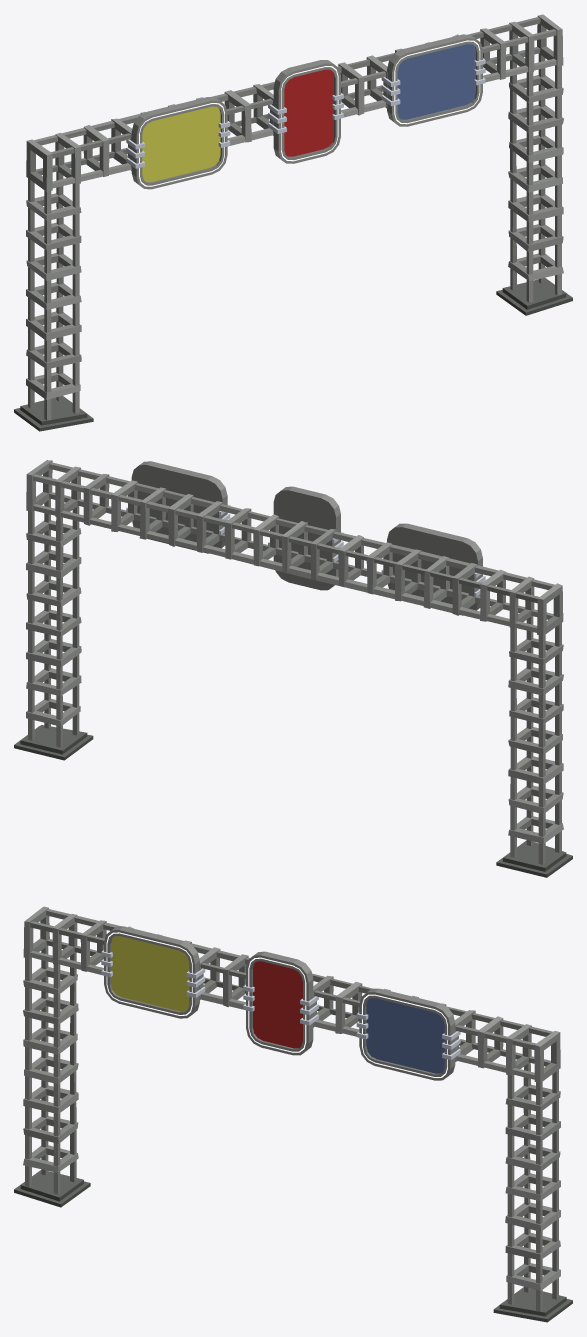
Rendered from Overhead_Road_Sign.glb.
3 views of the same model, one above another, from view 1: azimuth 30°, elevation 25°; view 2: azimuth 150°, elevation 25°; view 3: azimuth 330°, elevation 25° (orthographic).
Parts seen in each view (by area): view 1: BigHoardingSIgn; view 2: BigHoardingSIgn; view 3: BigHoardingSIgn.
Boxes of the visible parts, <box> form: BigHoardingSIgn: <box>14,14,572,431</box>; BigHoardingSIgn: <box>14,460,572,877</box>; BigHoardingSIgn: <box>14,906,572,1322</box>.
Size of what is drawn, in the model's own units: 15.11 by 8.15 by 1.5.
Materials: 2 (2 with a texture image).
